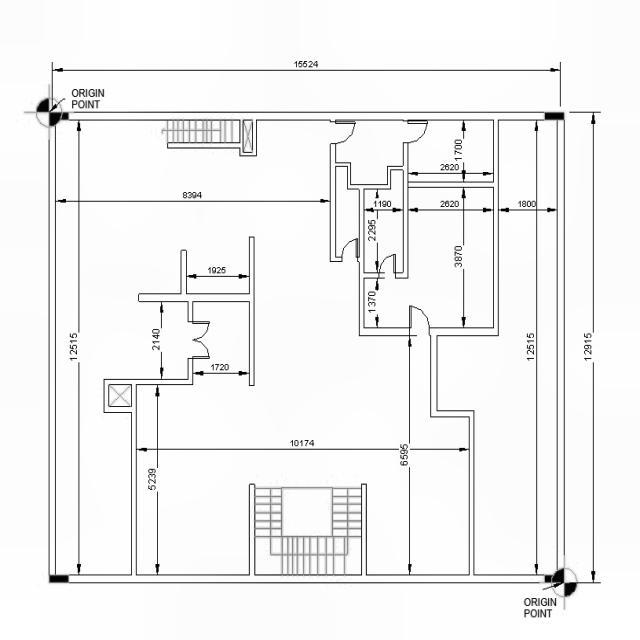Column: (544, 112, 564, 120), (544, 575, 564, 583), (49, 575, 69, 583), (49, 112, 69, 120)
Door: (408, 305, 431, 338), (330, 121, 356, 144), (403, 121, 428, 143), (378, 254, 396, 278), (342, 238, 358, 262)
Double-Door: (186, 320, 212, 360)
Staircase: (252, 482, 364, 578), (167, 120, 240, 142)
